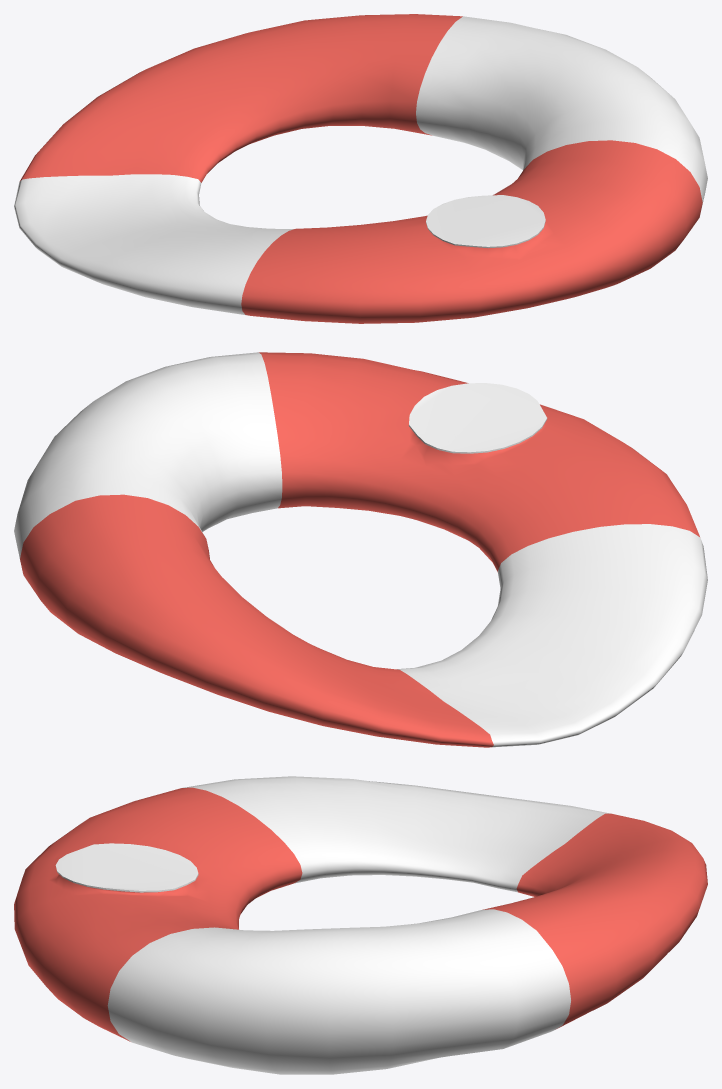
Rendered from badbuoy.fbx.
3 views of the same model, one above another, from view 1: azimuth 30°, elevation 25°; view 2: azimuth 150°, elevation 25°; view 3: azimuth 270°, elevation 25° (orthographic). The views are drawn at different scales.
Visible parts, largest first — view 1: Floater1; view 2: Floater1; view 3: Floater1.
Boxes of the visible parts, x1,y1,x2,y2 form: Floater1: [14, 14, 707, 323]; Floater1: [14, 352, 707, 747]; Floater1: [14, 776, 707, 1074].
Bounding box in the file's own units: 7.36 × 1.57 × 7.3.
